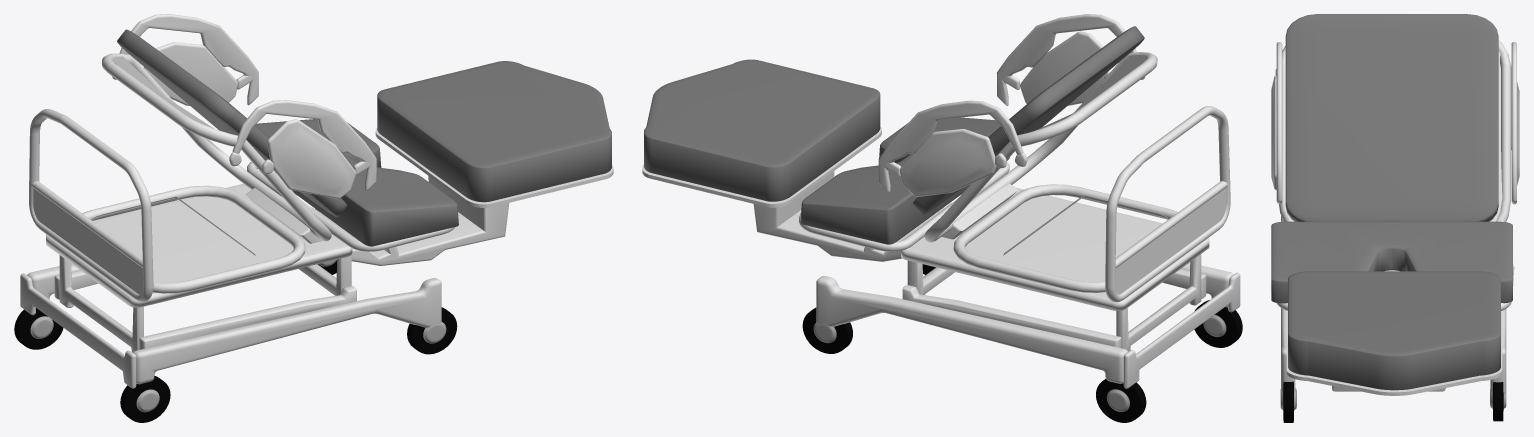
File: Hospital Bed.glb
The picture shows the model from 3 angles, left to right: view 1: azimuth 30°, elevation 25°; view 2: azimuth 150°, elevation 25°; view 3: azimuth 270°, elevation 25°; orthographic projection.
Parts seen in each view (by area): view 1: Cube.005, Cube.003, Cube.002, geometry_0.001, geometry_0.012, geometry_0.021, geometry_0.014, Cube.001, geometry_0.019, geometry_0.018, geometry_0.013, geometry_0.020 (+14 smaller); view 2: Cube.005, Cube.003, geometry_0.002, Cube.002, geometry_0.012, geometry_0.009, Cube.001, geometry_0.019, geometry_0.021, geometry_0.018, geometry_0.008, geometry_0.020 (+14 smaller); view 3: Cube.001, Cube.005, Cube.002, geometry_0.012, Cube.004, geometry_0.013, geometry_0.008, geometry_0.014, geometry_0.023, Cylinder, geometry_0.001, Cylinder.002 (+2 smaller).
Boxes of the visible parts, bbox=[...] form: Cube.005: bbox=[377, 61, 611, 202]; Cube.003: bbox=[46, 183, 352, 307]; Cube.002: bbox=[255, 119, 458, 246]; geometry_0.001: bbox=[133, 278, 441, 384]; geometry_0.012: bbox=[102, 53, 331, 241]; geometry_0.021: bbox=[245, 176, 509, 265]; geometry_0.014: bbox=[267, 119, 356, 198]; Cube.001: bbox=[117, 29, 347, 217]; geometry_0.019: bbox=[29, 109, 153, 301]; geometry_0.018: bbox=[82, 185, 305, 293]; geometry_0.013: bbox=[232, 100, 376, 191]; geometry_0.020: bbox=[33, 188, 143, 294]; Cube.005: bbox=[644, 59, 880, 201]; Cube.003: bbox=[901, 187, 1209, 310]; geometry_0.002: bbox=[816, 276, 1127, 383]; Cube.002: bbox=[800, 117, 1009, 244]; geometry_0.012: bbox=[924, 52, 1157, 242]; geometry_0.009: bbox=[900, 129, 996, 196]; Cube.001: bbox=[912, 26, 1144, 214]; geometry_0.019: bbox=[1105, 106, 1230, 302]; geometry_0.021: bbox=[753, 171, 1018, 261]; geometry_0.018: bbox=[953, 184, 1177, 292]; geometry_0.008: bbox=[878, 100, 1023, 192]; geometry_0.020: bbox=[1115, 188, 1226, 294]; Cube.001: bbox=[1285, 14, 1498, 221]; Cube.005: bbox=[1288, 271, 1500, 390]; Cube.002: bbox=[1271, 221, 1512, 303]; geometry_0.012: bbox=[1279, 40, 1510, 221]; Cube.004: bbox=[1286, 311, 1502, 395]; geometry_0.013: bbox=[1276, 42, 1282, 204]; geometry_0.008: bbox=[1511, 42, 1516, 204]; geometry_0.014: bbox=[1271, 75, 1276, 190]; geometry_0.023: bbox=[1490, 51, 1502, 221]; Cylinder: bbox=[1280, 381, 1296, 422]; geometry_0.001: bbox=[1281, 216, 1295, 393]; Cylinder.002: bbox=[1490, 382, 1506, 421].
Bounding box in the file's own units: 2.26 × 1.23 × 0.914.
Materials: 4 (1 with a texture image).
